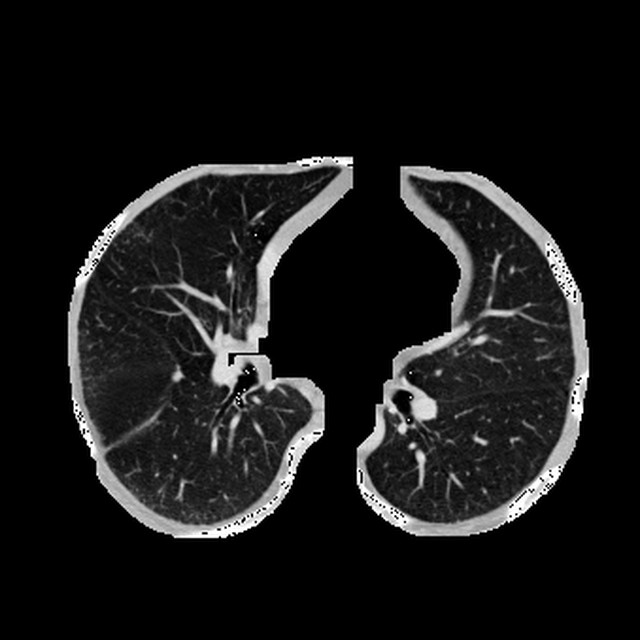PN: (172, 370, 183, 381)
